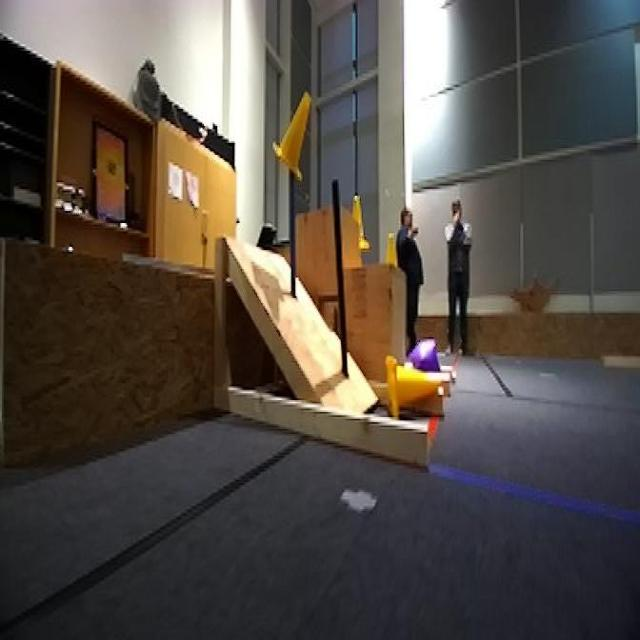frc_cone: (383, 356, 442, 422), (272, 90, 314, 179), (342, 187, 371, 254), (379, 225, 402, 269)
frc_cube: (412, 342, 443, 381)
